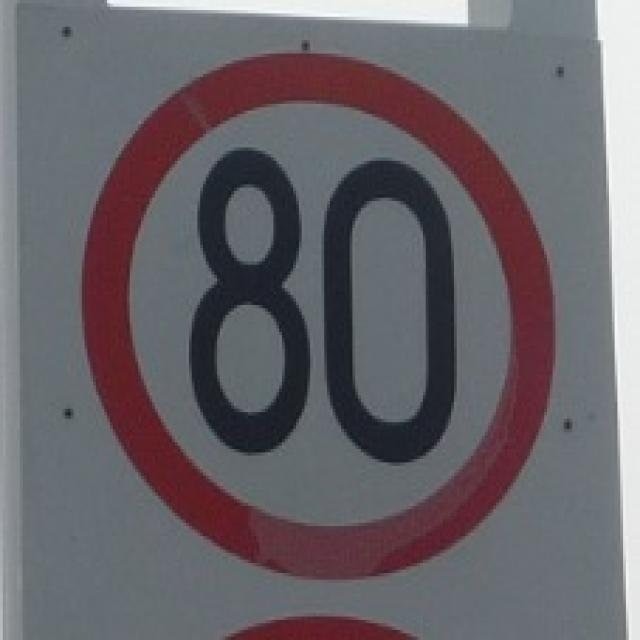Speed Limit -80-: (170, 148, 461, 471)
